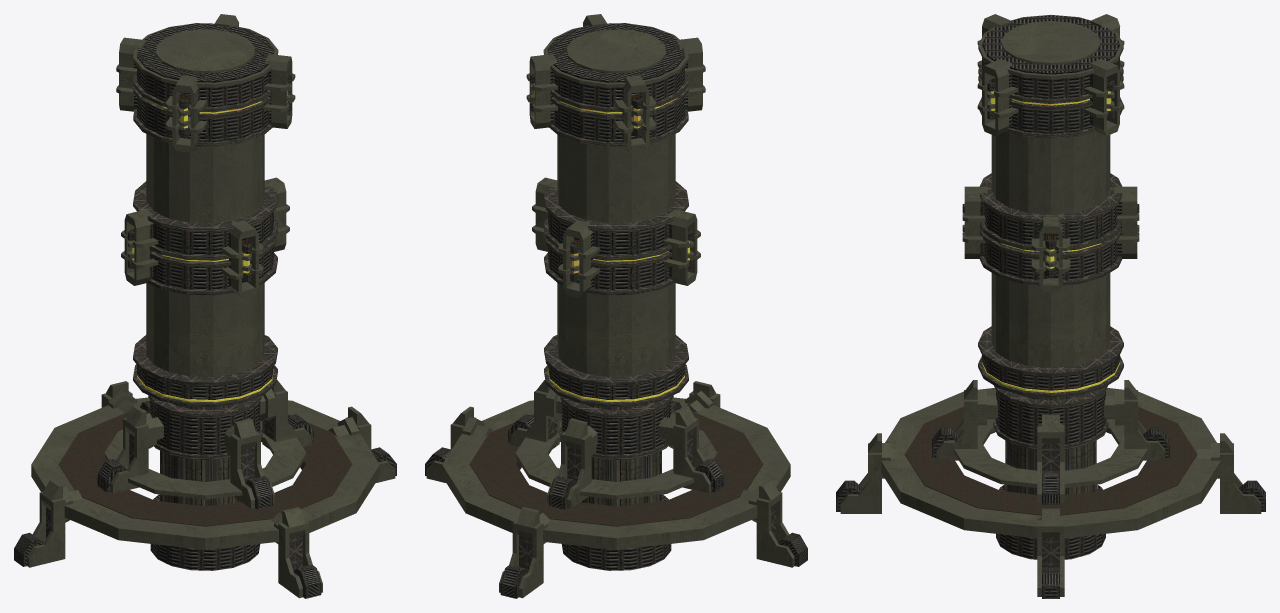
The model's file is cylTow2.fbx.
3 renders of one model, left to right at view 1: azimuth 30°, elevation 25°; view 2: azimuth 150°, elevation 25°; view 3: azimuth 270°, elevation 25°, orthographic.
Parts seen in each view (by area): view 1: Object; view 2: Object; view 3: Object.
Boxes of the visible parts, left/top/right/bottom form: Object: left=14, top=14, right=396, bottom=598; Object: left=425, top=14, right=807, bottom=598; Object: left=836, top=14, right=1265, bottom=598.
Bounding box in the file's own units: 5600 × 7125 × 5600.
